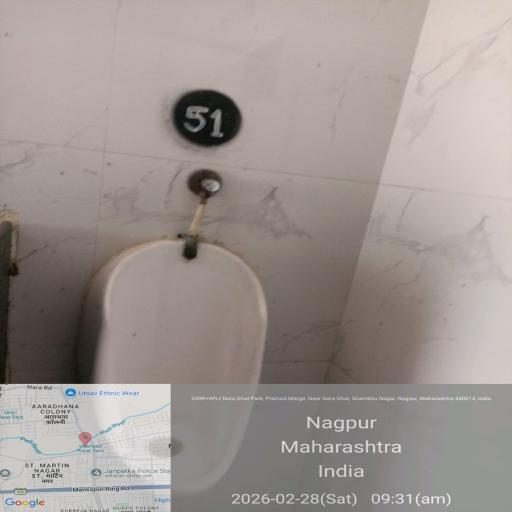clean_floor: (34, 11, 445, 218)
clean_urinal: (44, 227, 313, 512)
